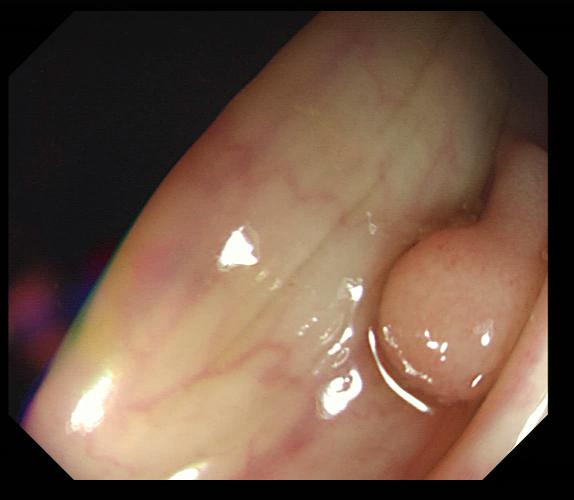polyp: (374, 135, 547, 407)
